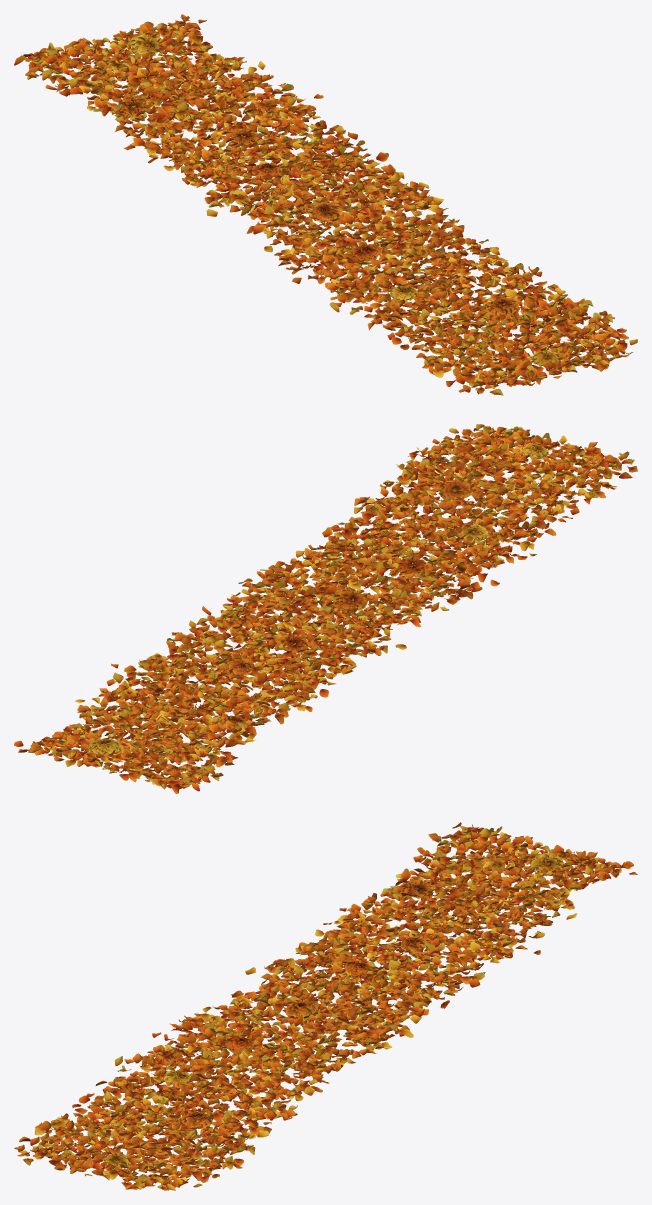
The model's file is w3_altar_petalpath.glb.
3 views of the same model, one above another, from view 1: azimuth 30°, elevation 25°; view 2: azimuth 150°, elevation 25°; view 3: azimuth 330°, elevation 25° (orthographic).
Parts seen in each view (by area): view 1: w3_altar_petalpath; view 2: w3_altar_petalpath; view 3: w3_altar_petalpath.
Part boxes in pixels (x1=…): w3_altar_petalpath: x1=14, y1=14, x2=637, y2=395; w3_altar_petalpath: x1=14, y1=424, x2=637, y2=793; w3_altar_petalpath: x1=14, y1=822, x2=637, y2=1190.
Bounding box in the file's own units: 0.5279 × 0.0331 × 2.01.
Materials: 2 (2 with a texture image).
